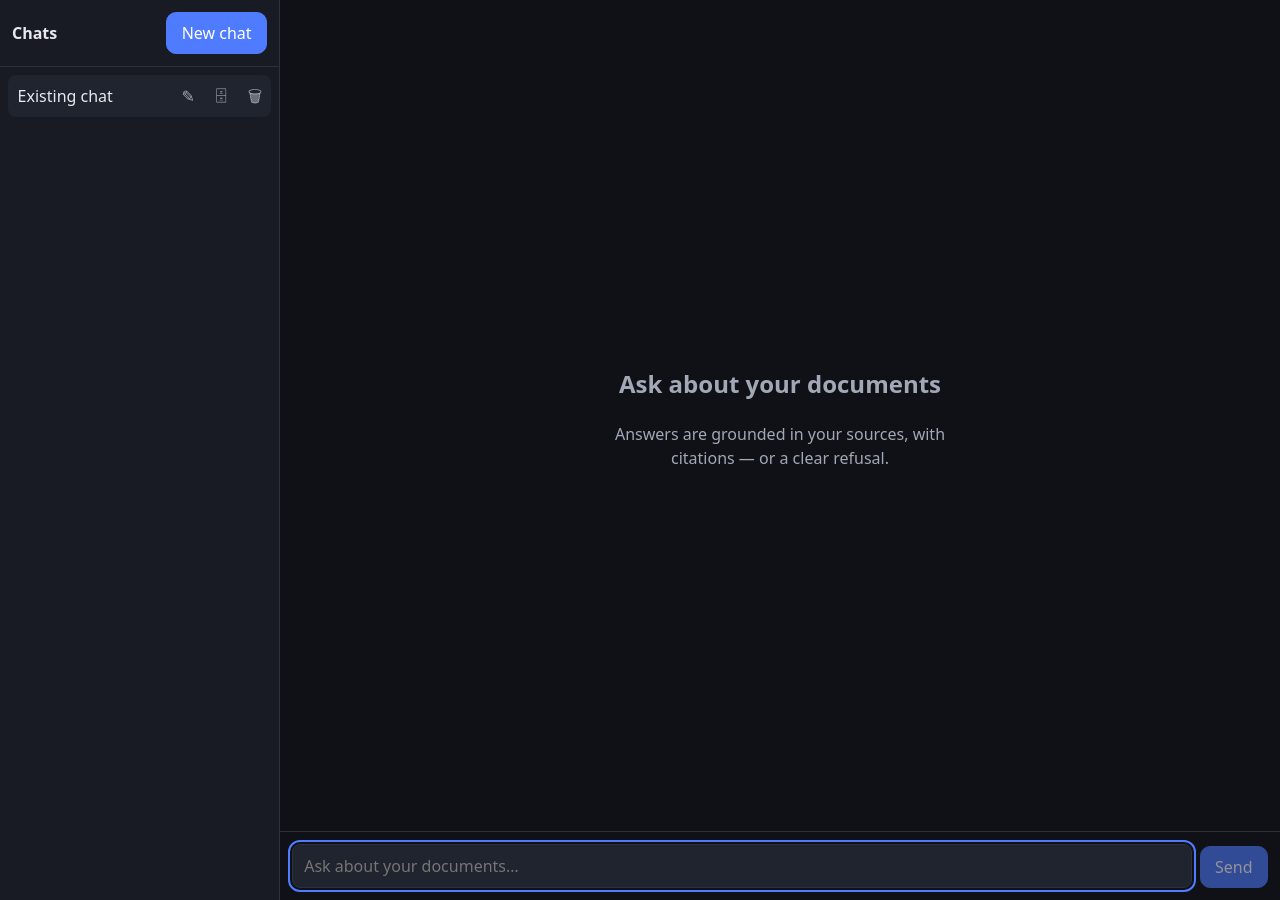
Test case: chat — streaming + states › streams a grounded answer, then shows the persisted cited message
The image size is (1280, 900).
expect the heading "Ask about your documents" is shown: met, box [597, 366, 963, 402]
In the text box named "Message": coordinates (742, 866) [292, 844, 1192, 888], type "what is the answer?"
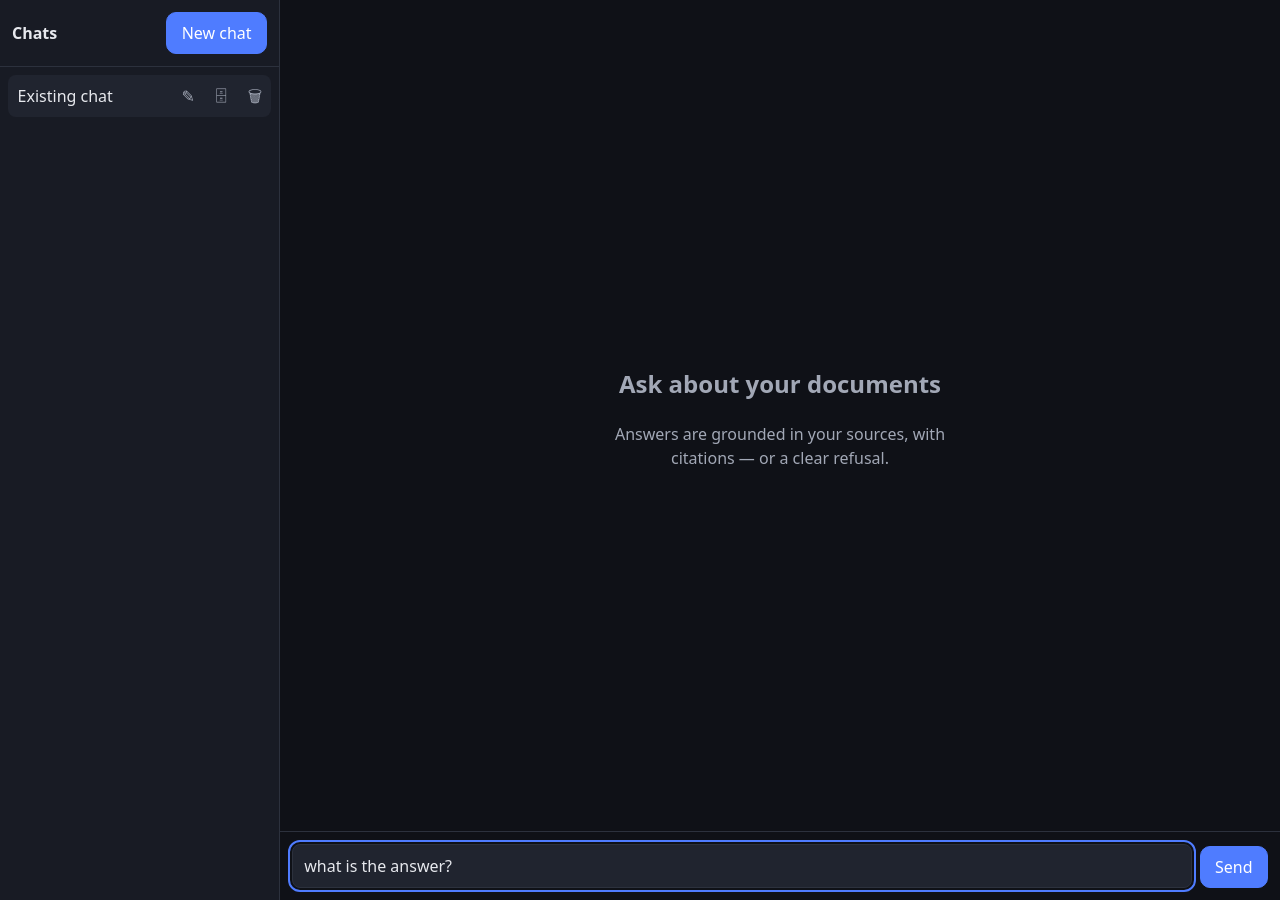
Click the button "Send": coordinates (1234, 867) [1200, 846, 1268, 888]
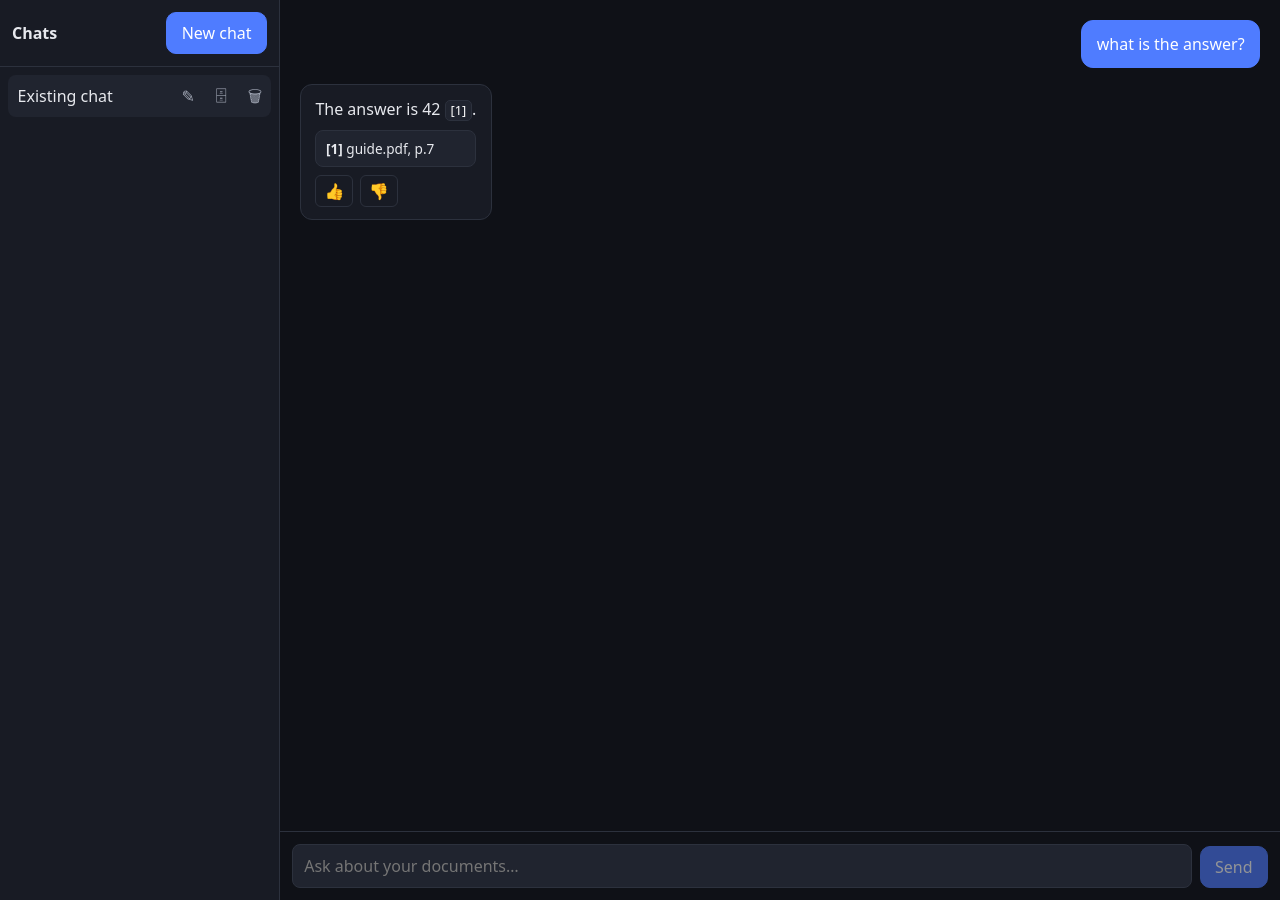
expect the text "The answer is 42 [1] ." is shown: met, box [315, 97, 476, 121]
expect the button named "Source 1: guide.pdf, p.7" is shown: met, box [445, 100, 472, 121]
expect the element named "Sources" shows "guide.pdf, p.7": met, box [346, 138, 434, 158]
